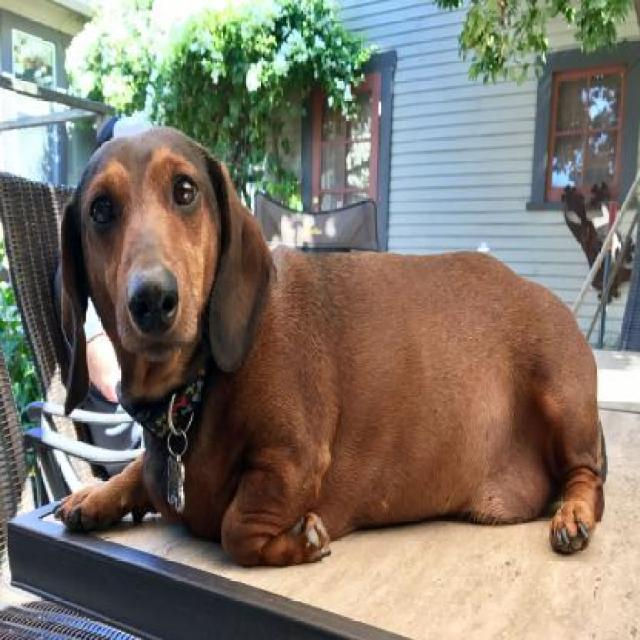Dog: (51, 122, 612, 572)
